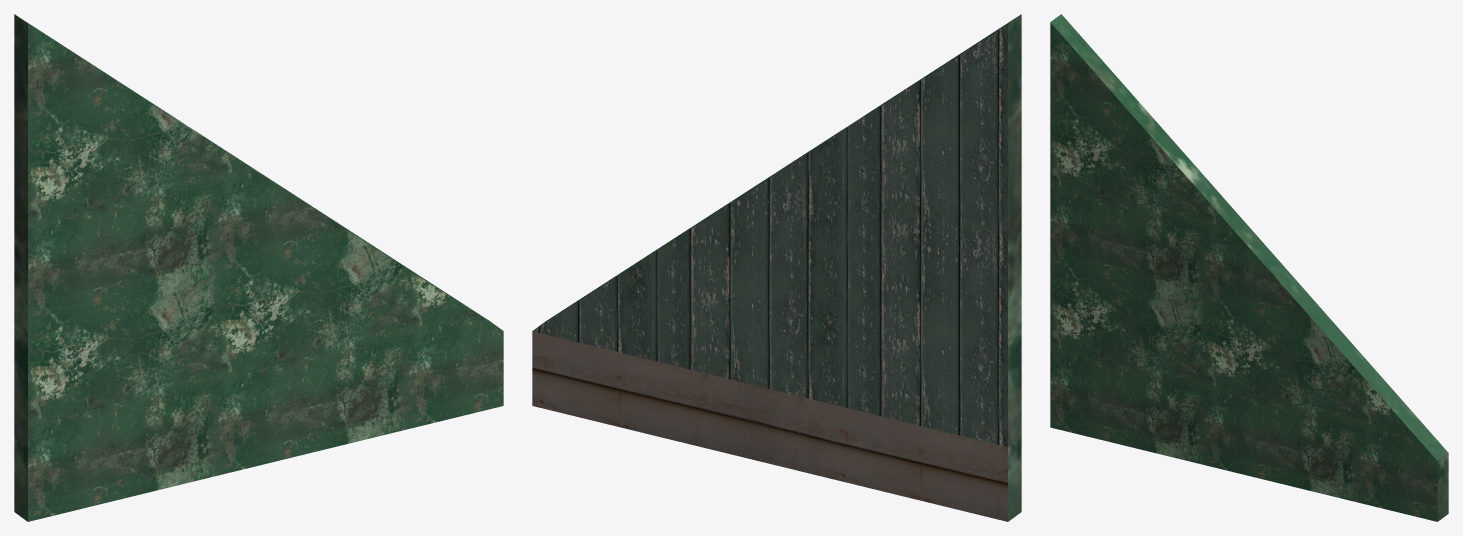
The model's file is Slopewall.fbx.
3 renders of one model, left to right at view 1: azimuth 30°, elevation 25°; view 2: azimuth 150°, elevation 25°; view 3: azimuth 330°, elevation 25°, orthographic. The views are drawn at different scales.
Visible parts, largest first — view 1: UpperSlopeLeft; view 2: UpperSlopeLeft; view 3: UpperSlopeLeft.
Boxes of the visible parts, x1=… form: UpperSlopeLeft: x1=14, y1=14, x2=503, y2=521; UpperSlopeLeft: x1=532, y1=14, x2=1021, y2=521; UpperSlopeLeft: x1=1050, y1=14, x2=1448, y2=521.
Bounding box in the file's own units: 400 × 400 × 20.
3 materials, 3 textured.
